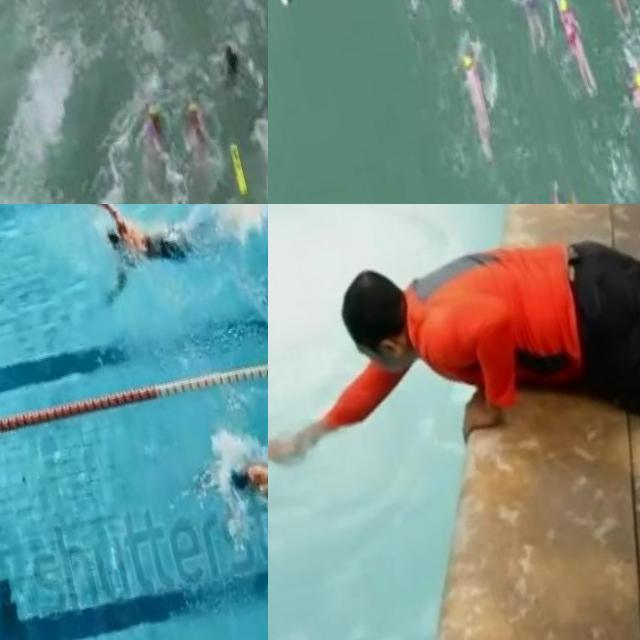out of water: (297, 204, 640, 495)
swimming: (52, 204, 237, 309), (174, 397, 268, 546), (551, 0, 606, 106), (504, 0, 559, 63), (623, 71, 640, 196), (590, 0, 640, 41)
